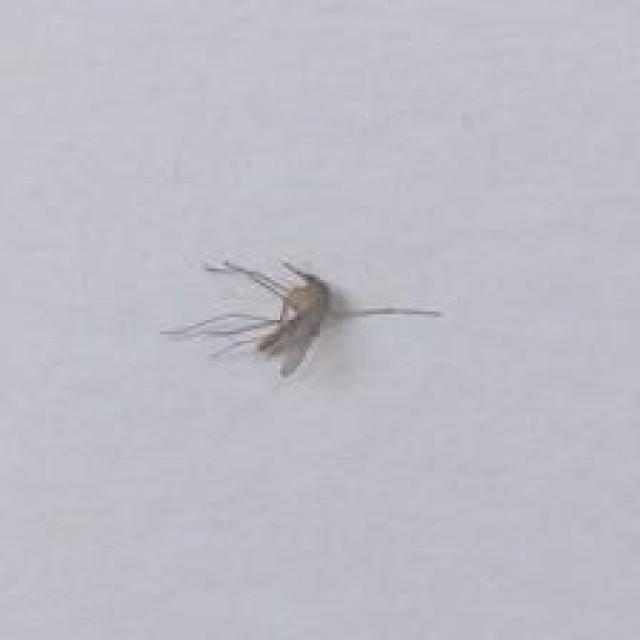Culex: (160, 254, 443, 380)
